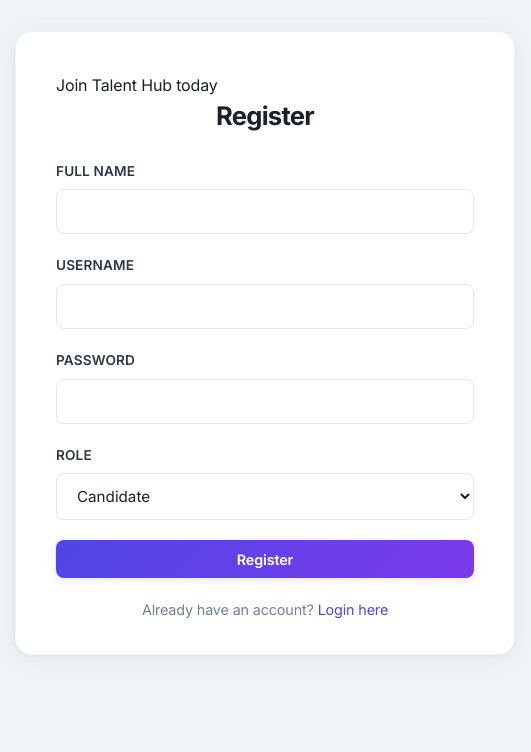
Test: Register › hides company name field when switching back to CANDIDATE
Step 1. Select "HR Admin" in the dropdown labelled "Role" → (265, 497), box left=56, top=473, right=474, bottom=520
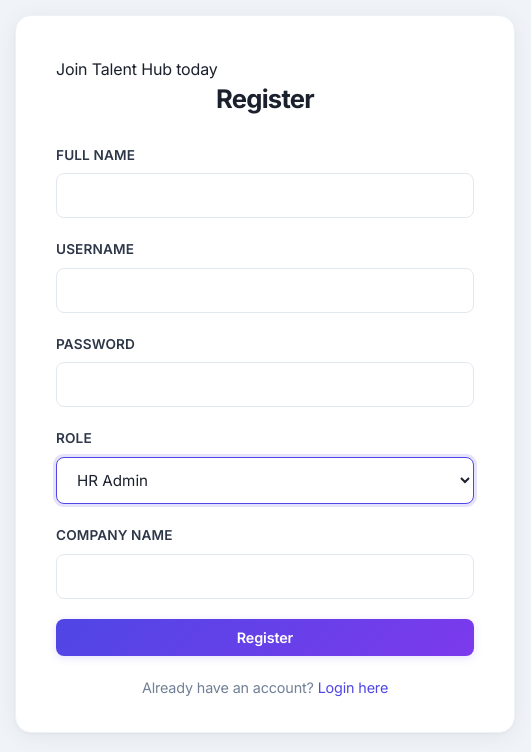
Result: the field labelled "Company Name" is shown at left=56, top=554, right=474, bottom=599
Step 2. Select "Candidate" in the dropdown labelled "Role" → (265, 481), box left=56, top=457, right=474, bottom=504
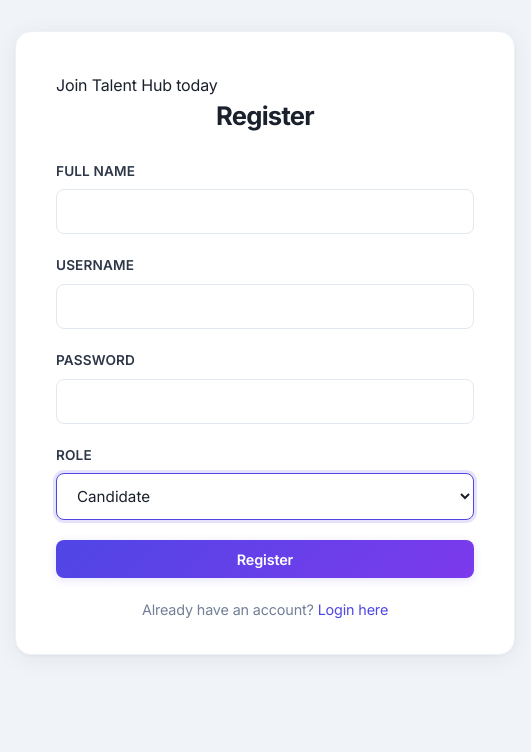
Result: the label labelled "Company Name" is gone
